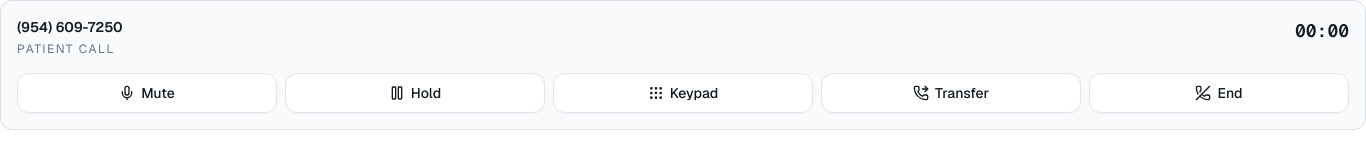
Scenario: CanonicalActiveCall › holds media with caller music and stops music before resuming
Click the button "Hold": point(415, 93) [285,73,545,113]
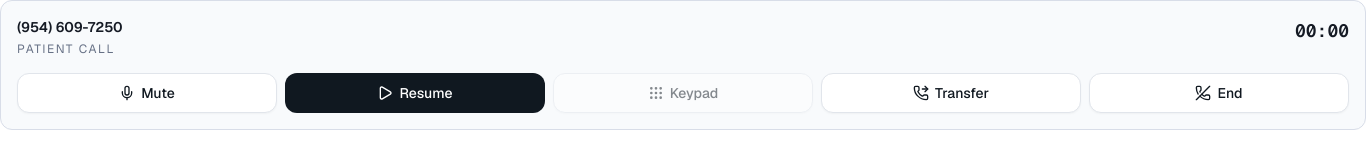
Now the button "Resume" is shown
Click the button "Resume": point(415, 93) [285,73,545,113]
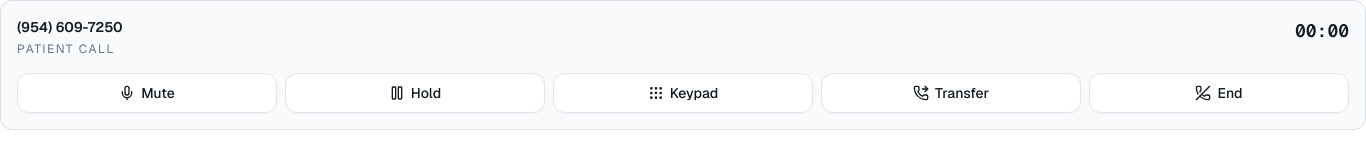
Now the button "Hold" is shown, box [285,73,545,113]
